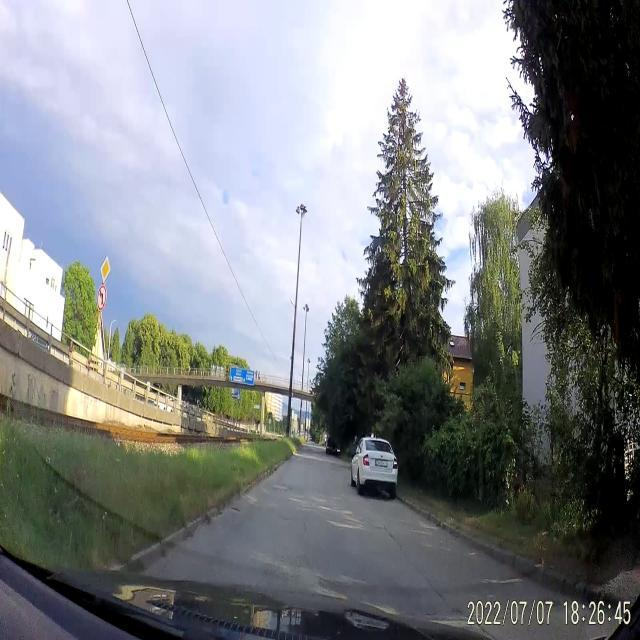Pothole: (220, 503, 242, 517), (451, 602, 464, 620)
